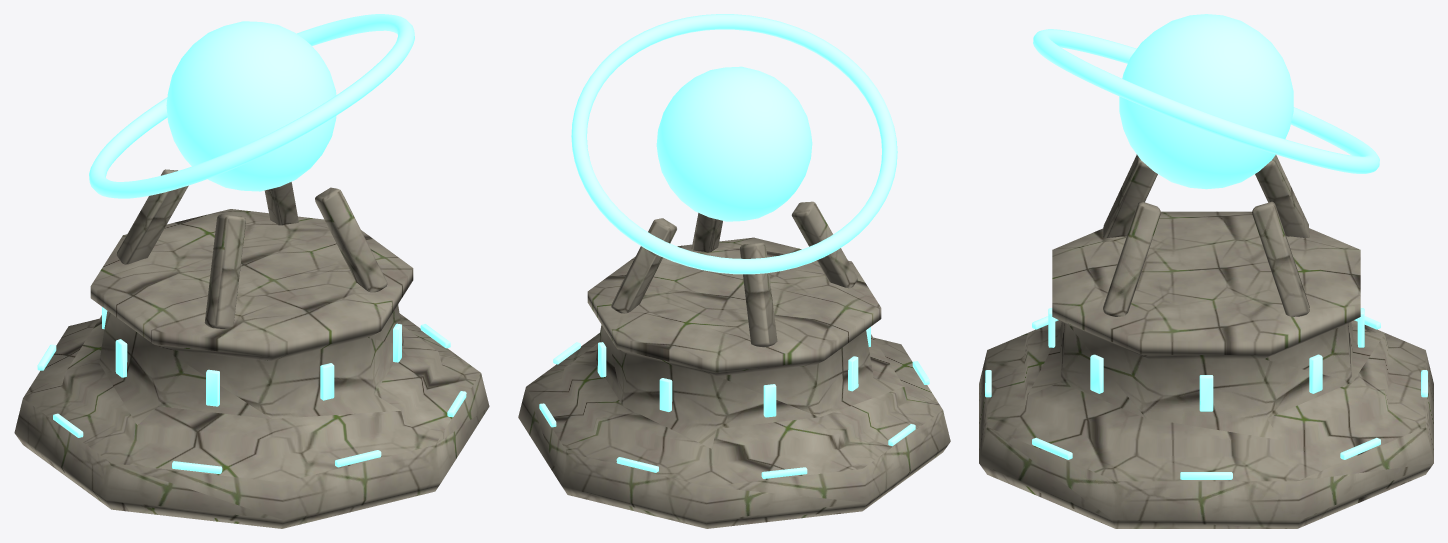
The model's file is orb_shrine.glb.
3 renders of one model, left to right at view 1: azimuth 30°, elevation 25°; view 2: azimuth 150°, elevation 25°; view 3: azimuth 270°, elevation 25°, orthographic. The views are drawn at different scales.
Visible parts, largest first — view 1: orb_shrine_Stone, orb_shrine_Glow_Spirit; view 2: orb_shrine_Stone, orb_shrine_Glow_Spirit; view 3: orb_shrine_Stone, orb_shrine_Glow_Spirit.
Part boxes in pixels (x1=…): orb_shrine_Stone: x1=14, y1=169, x2=489, y2=528; orb_shrine_Glow_Spirit: x1=37, y1=14, x2=466, y2=473; orb_shrine_Stone: x1=518, y1=201, x2=950, y2=528; orb_shrine_Glow_Spirit: x1=539, y1=14, x2=929, y2=478; orb_shrine_Stone: x1=979, y1=154, x2=1433, y2=528; orb_shrine_Glow_Spirit: x1=985, y1=14, x2=1427, y2=479.
Bounding box in the file's own units: 2.59 × 2.6 × 2.59.
2 materials, 1 textured.
